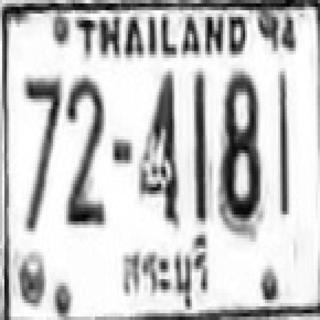N01: (192, 72, 205, 221), (276, 70, 287, 216)
N02: (64, 75, 104, 221), (65, 73, 102, 209)
N04: (137, 70, 177, 220)
N07: (22, 75, 60, 228), (22, 77, 60, 179)
N08: (218, 68, 258, 221)
P60: (116, 232, 218, 314)
